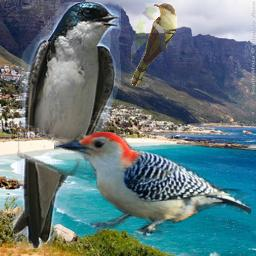Cuckoo: (131, 3, 177, 87)
Swallow: (13, 2, 121, 249)
Woodpecker: (54, 132, 251, 239)
